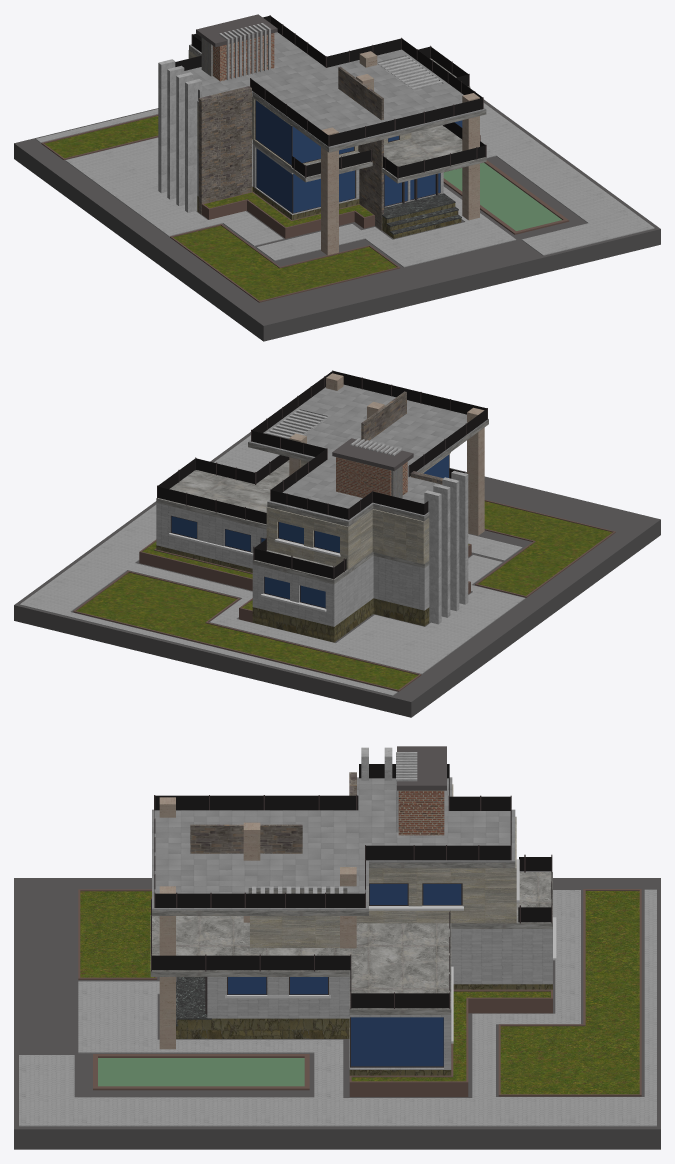
The picture shows the model from 3 angles, top to bottom: view 1: azimuth 30°, elevation 25°; view 2: azimuth 150°, elevation 25°; view 3: azimuth 270°, elevation 25°; orthographic projection. The views are drawn at different scales.
Bounding box in the file's own units: 29.26 × 11.76 × 31.83.
Materials: 23 (14 with a texture image).
